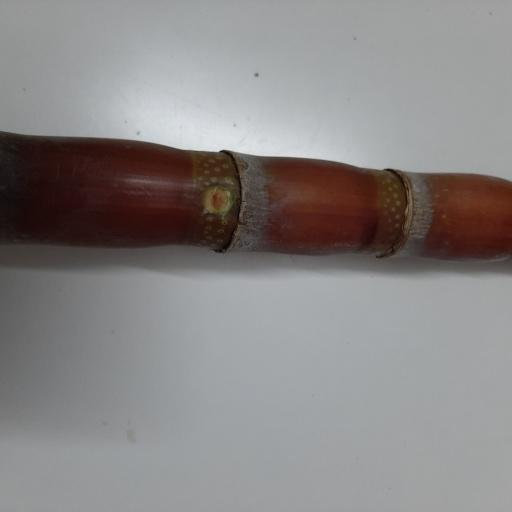Damage_Bud: (201, 186, 231, 215)
